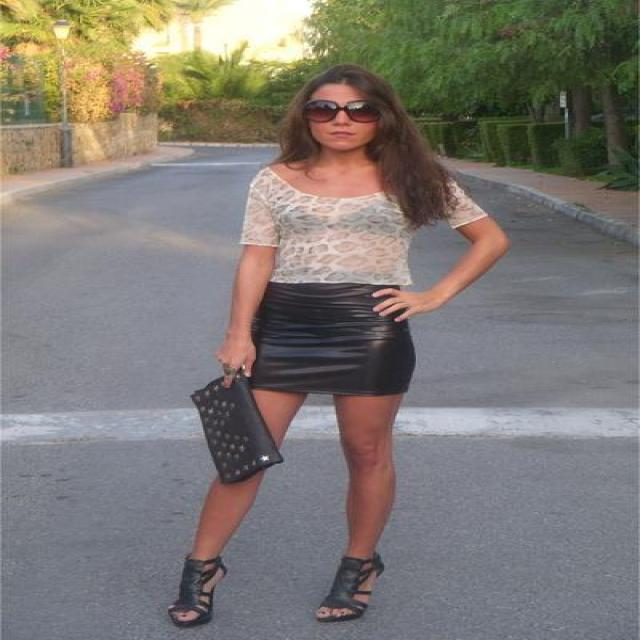bag: (190, 371, 282, 484)
shirt: (238, 167, 486, 285)
shoe: (173, 554, 382, 626)
skirt: (250, 282, 414, 396)
sunglass: (341, 90, 394, 122)
